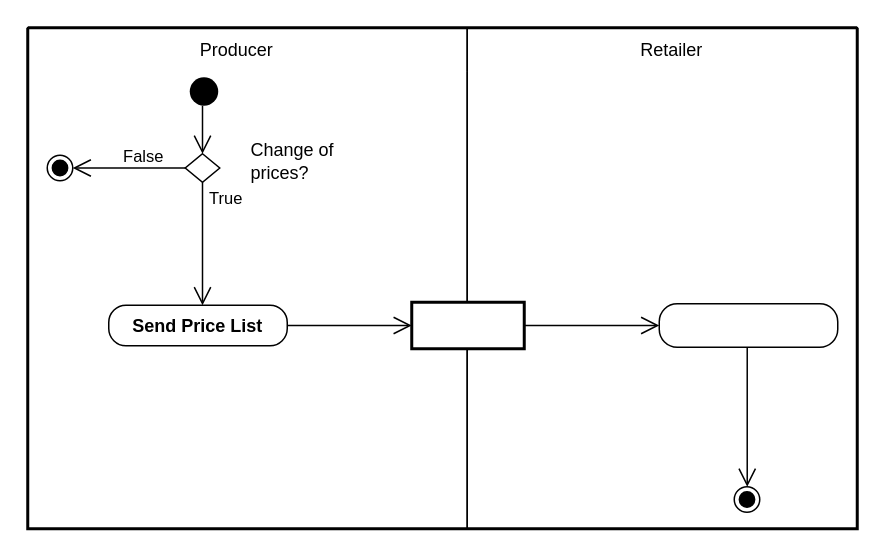
Some shapes in this 884 by 555 pixel diagram are drawn without their labels. The centre of each missing label's shape, as x and y in pixels:
"Catalogue" belongs at (x=467, y=325).
"Receive Price List" belongs at (x=748, y=324).
